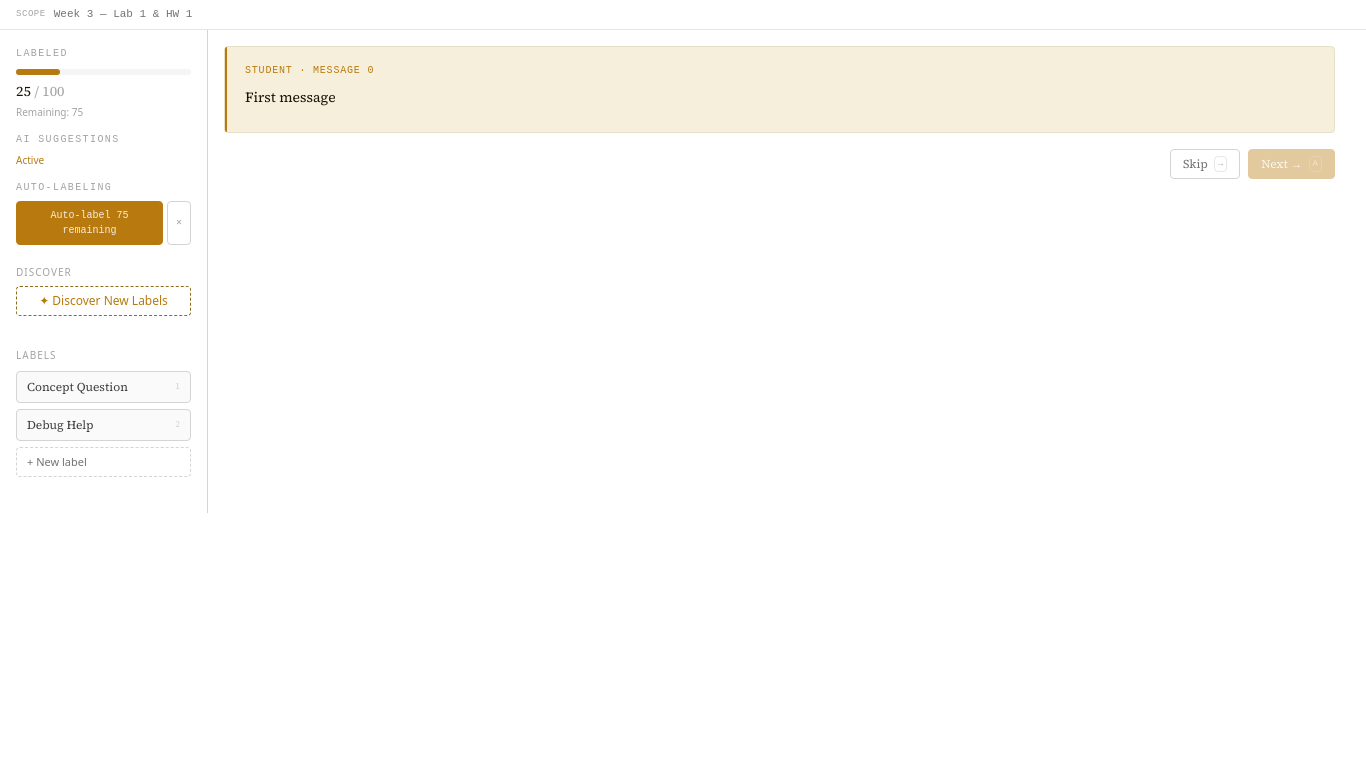
it: mismatched labels enter reconcile phase without saving
Expected: the text "First message" is shown, 245,86 -> 336,106
What coordinates should you click on to do the following:
click the button "Concept Question 1"
I would click on:
 (104, 386)
Its box is 16,370 -> 191,402.
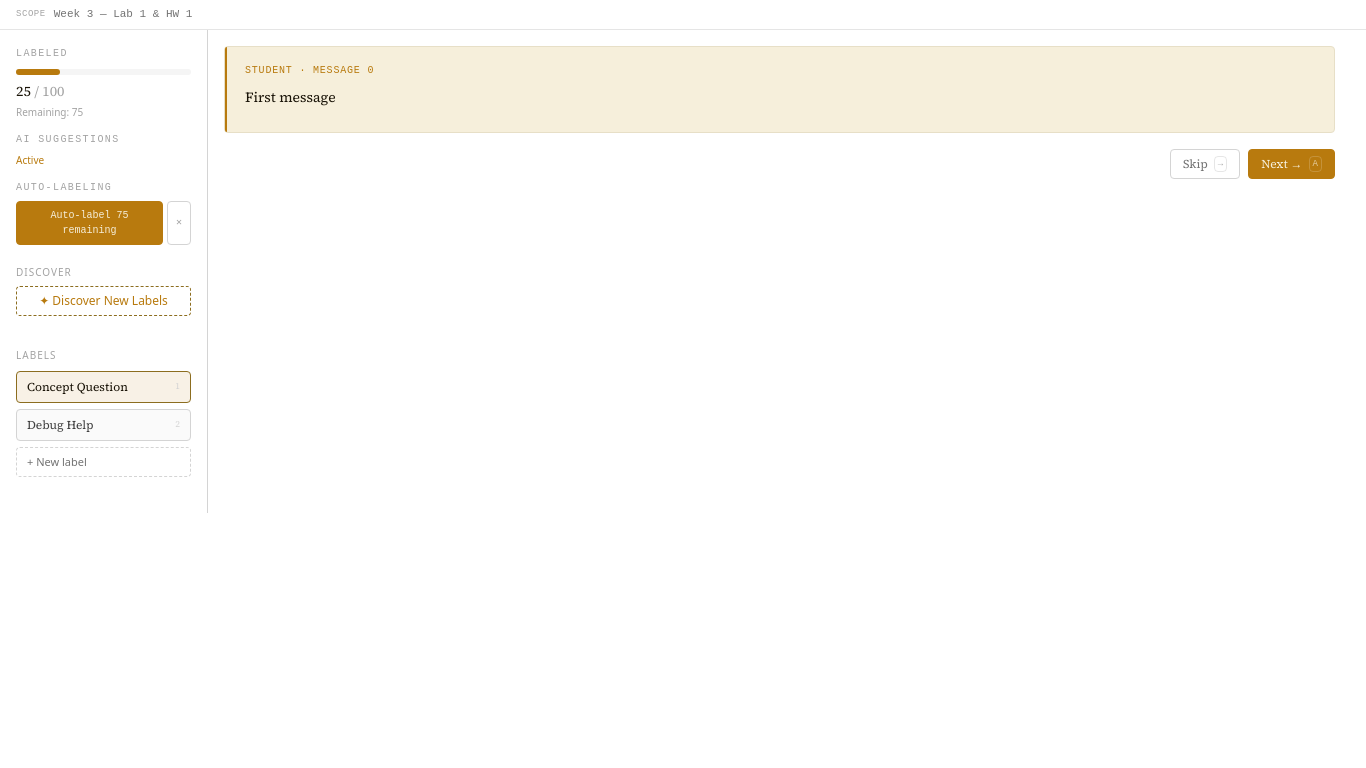
Expected: the button "Next → A" is enabled
What coordinates should you click on to do the following:
click the button "Next → A"
I would click on:
 (1292, 164)
Its box is 1248,149 -> 1335,179.
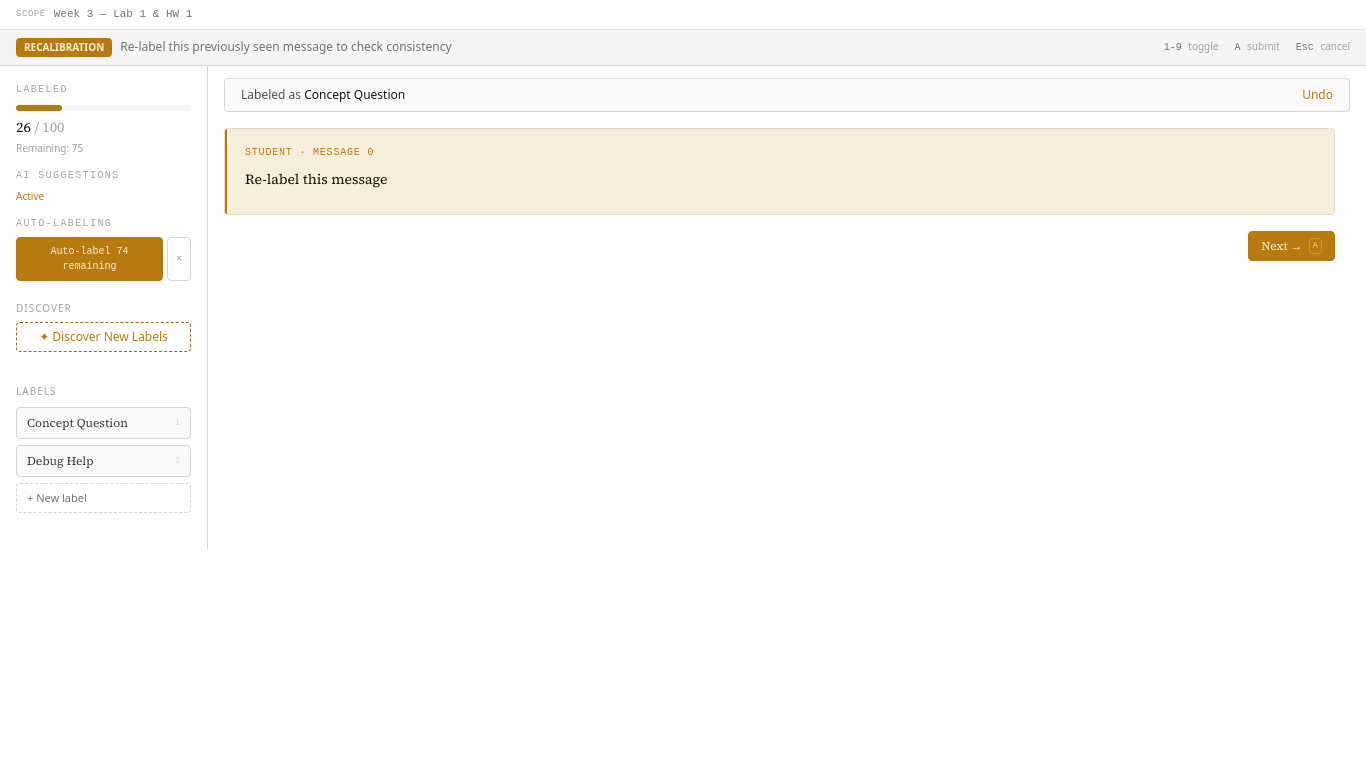
Expected: the text "RECALIBRATION" is shown, 16,38 -> 112,56
What coordinates should you click on to do the following:
click the button "Debug Help 2"
I would click on:
 (104, 460)
Its box is 16,444 -> 191,476.
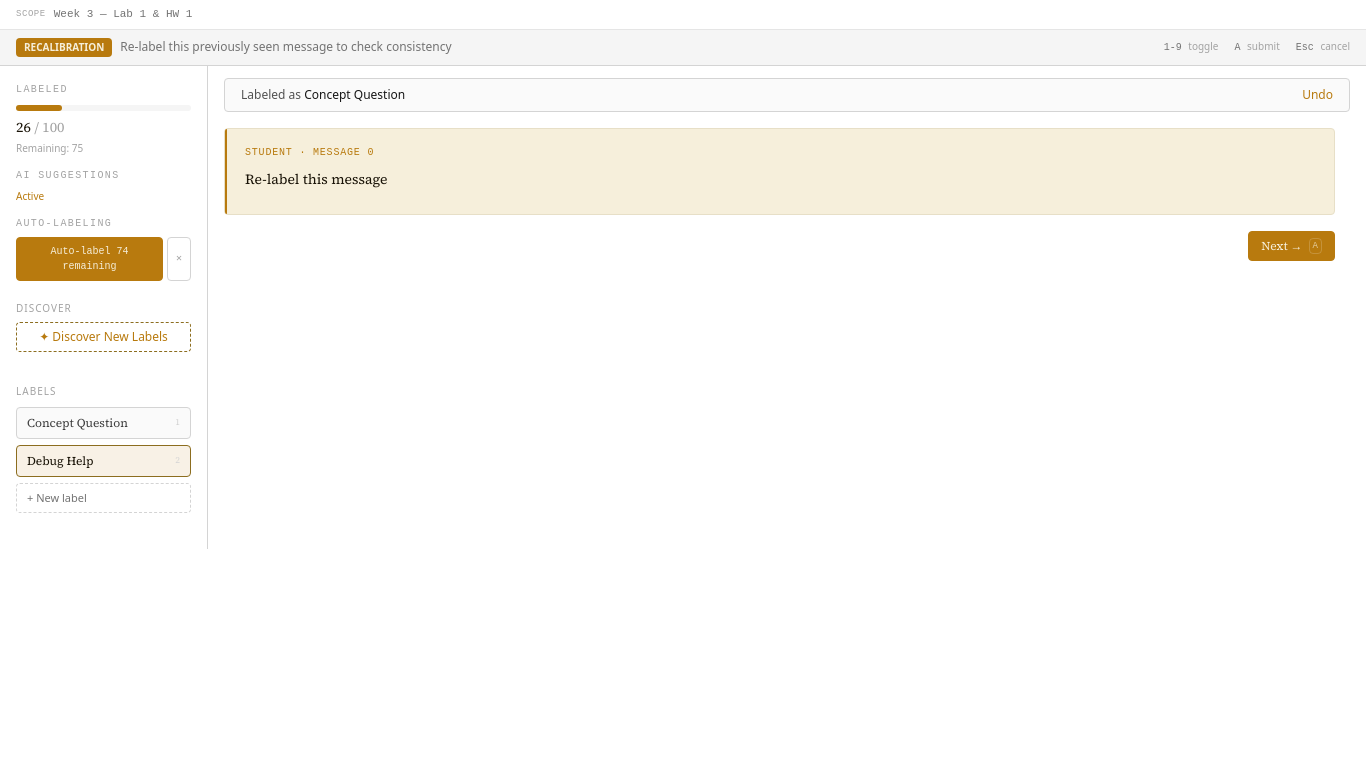
Expected: the button "Next → A" is enabled
What coordinates should you click on to do the following:
click the button "Next → A"
I would click on:
 (1292, 246)
Its box is 1248,231 -> 1335,261.
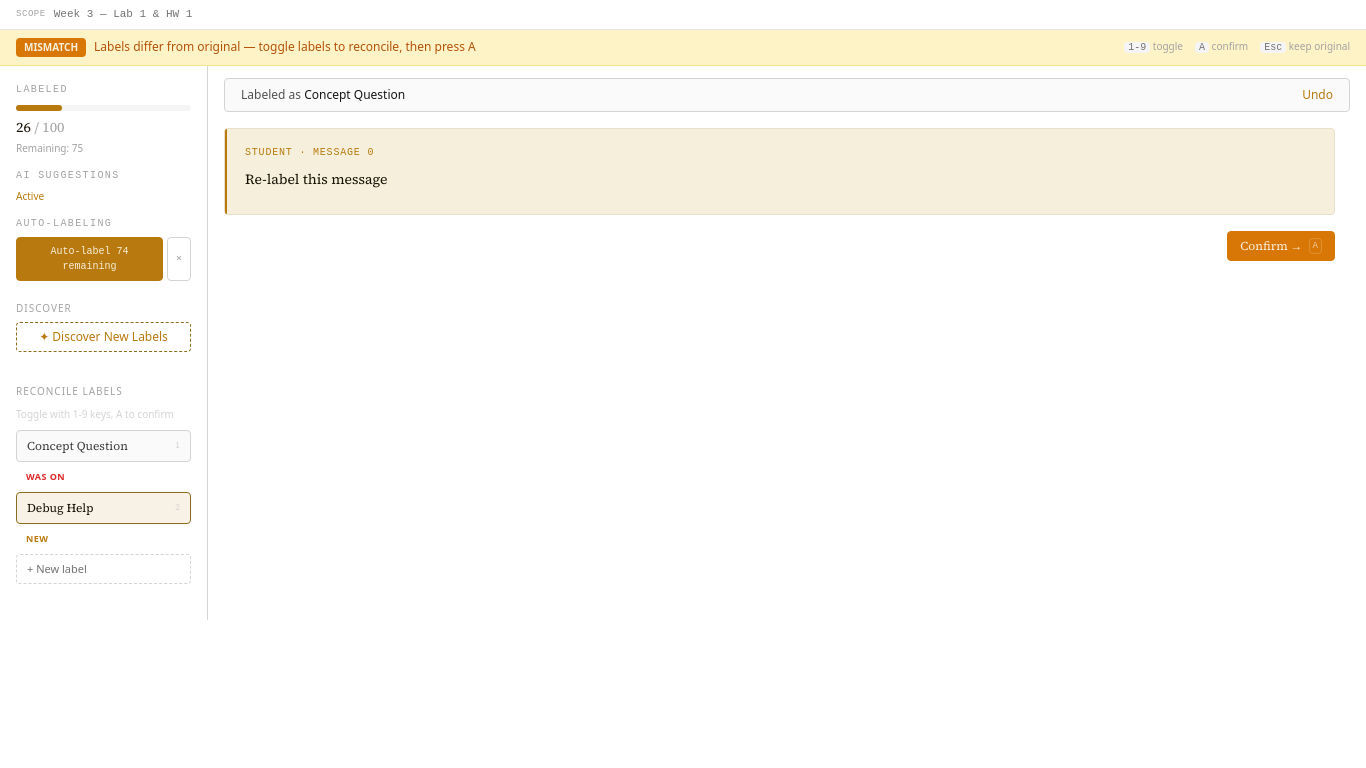
Expected: the text "MISMATCH" is shown, 16,38 -> 86,56
Expected: the text "Reconcile Labels" is shown, 16,384 -> 123,398
